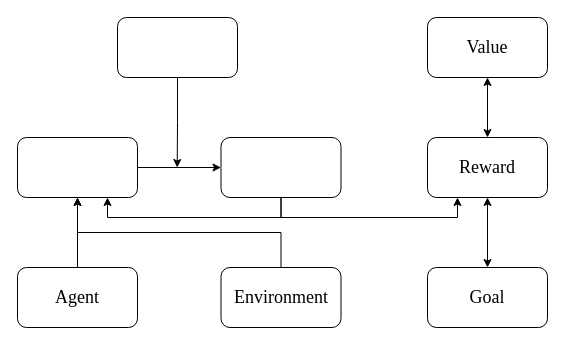
This 565x345 diagram has some shape labels left out. Here are the shapes that lost their labels. From the top down, the box of each, then its label:
(116, 16, 238, 78): Policy
(16, 136, 138, 198): State
(220, 136, 341, 198): Action
